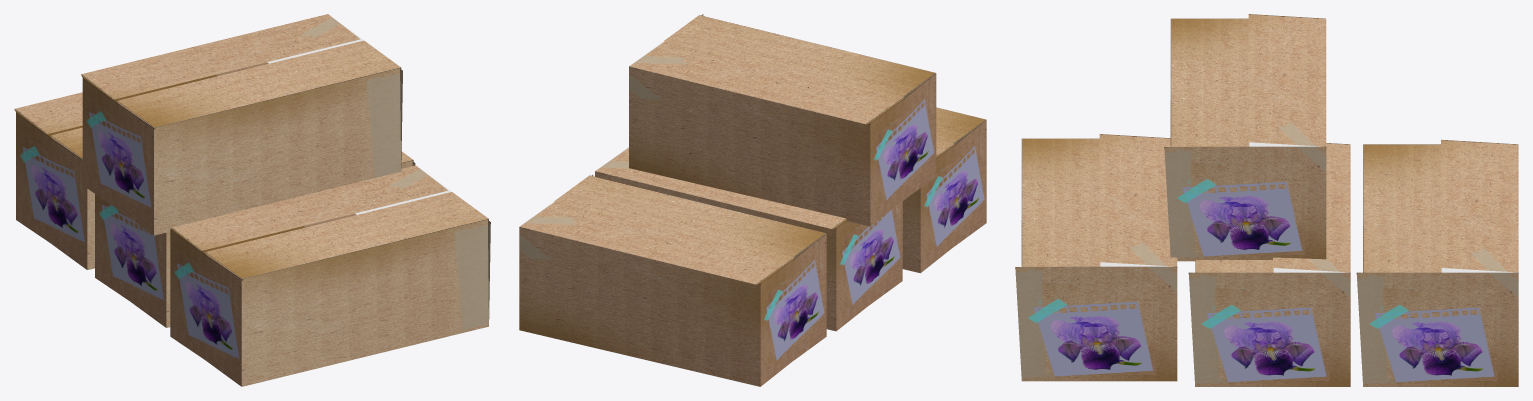
Rendered from caja_iris.glb.
The picture shows the model from 3 angles, left to right: view 1: azimuth 30°, elevation 25°; view 2: azimuth 150°, elevation 25°; view 3: azimuth 270°, elevation 25°; orthographic projection. The views are drawn at different scales.
Parts seen in each view (by area): view 1: Cube.004, Cube.005, Cube.001, Cube; view 2: Cube.001, Cube.005, Cube, Cube.004; view 3: Cube.001, Cube.005, Cube.004, Cube.
Boxes of the visible parts, left/top/right/bottom form: Cube.004: left=170, top=165, right=490, bottom=386; Cube.005: left=81, top=14, right=402, bottom=235; Cube.001: left=14, top=92, right=94, bottom=269; Cube: left=95, top=151, right=415, bottom=327; Cube.001: left=519, top=175, right=826, bottom=386; Cube.005: left=629, top=14, right=936, bottom=226; Cube: left=595, top=147, right=902, bottom=331; Cube.004: left=902, top=107, right=986, bottom=273; Cube.001: left=1356, top=139, right=1518, bottom=386; Cube.005: left=1164, top=14, right=1326, bottom=261; Cube.004: left=1015, top=134, right=1177, bottom=381; Cube: left=1188, top=143, right=1350, bottom=386.
Size of the model in its own units: 2.32 by 1.75 by 3.46.
Materials: 3 (3 with a texture image).
